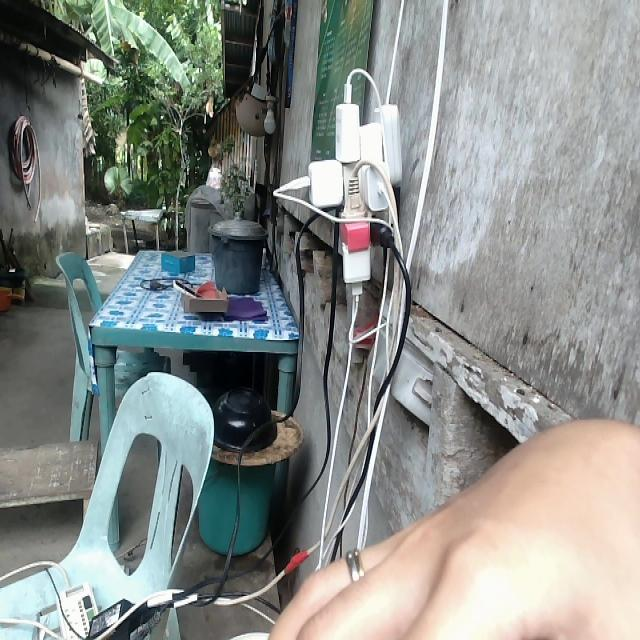-: (272, 67, 403, 305)
